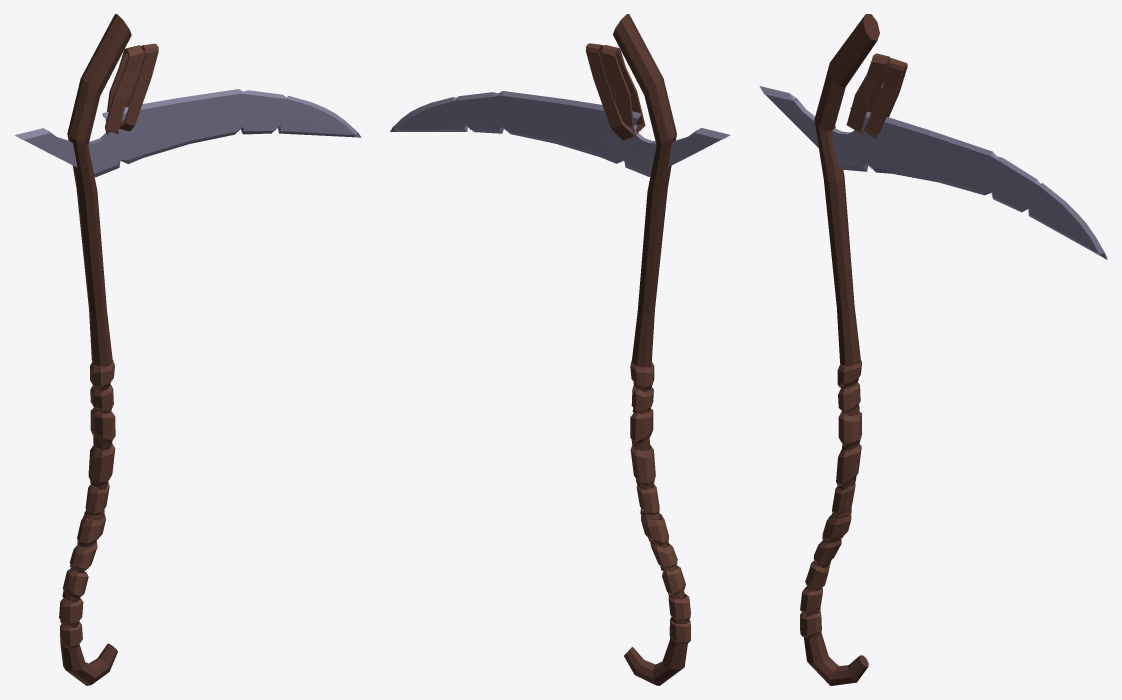
File: armory-necromancer-4.glb
The picture shows the model from 3 angles, left to right: view 1: azimuth 30°, elevation 25°; view 2: azimuth 150°, elevation 25°; view 3: azimuth 330°, elevation 25°; orthographic projection. The views are drawn at different scales.
Visible parts, largest first — view 1: Scythe_Cylinder.005; view 2: Scythe_Cylinder.005; view 3: Scythe_Cylinder.005.
Part boxes in pixels (x1=…): Scythe_Cylinder.005: x1=14, y1=14, x2=361, y2=685; Scythe_Cylinder.005: x1=390, y1=14, x2=730, y2=685; Scythe_Cylinder.005: x1=759, y1=14, x2=1107, y2=685.
Bounding box in the file's own units: 3.77 × 6.96 × 0.3186.
